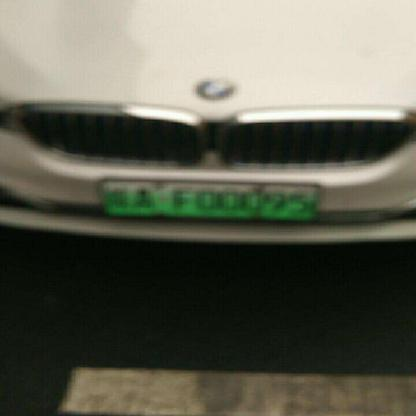lp: (102, 181, 316, 216)
